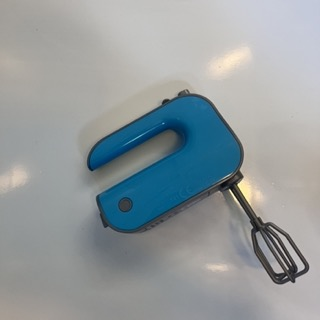mixer: (88, 90, 309, 287)
